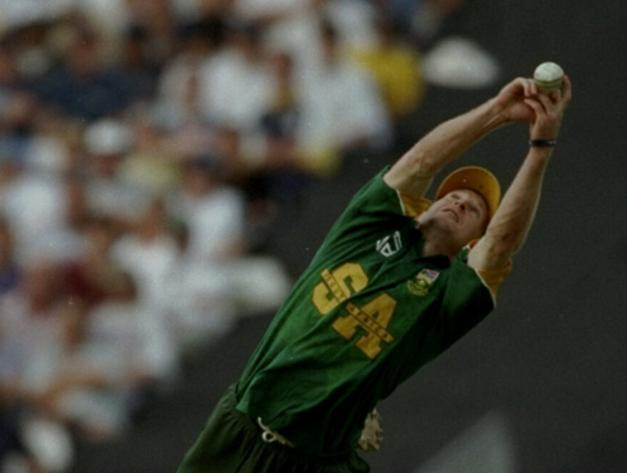Cricket-Ball: (531, 57, 567, 95)
